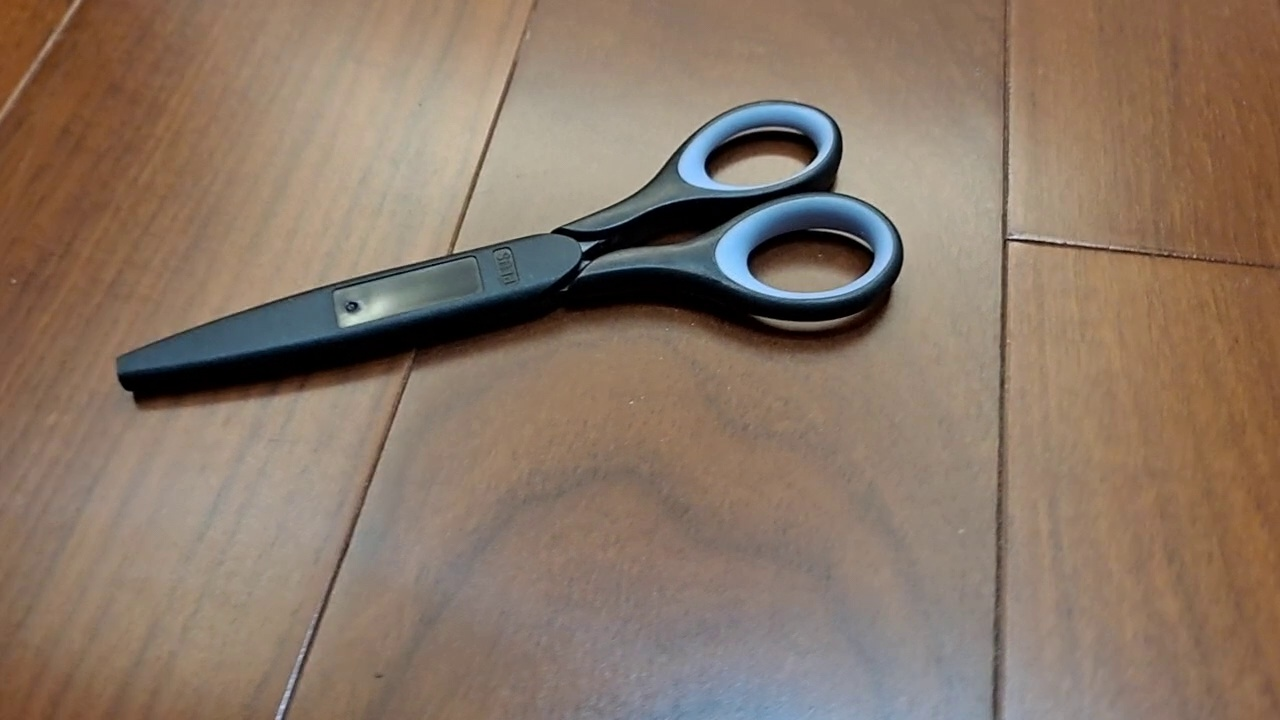scissors: (114, 98, 905, 405)
